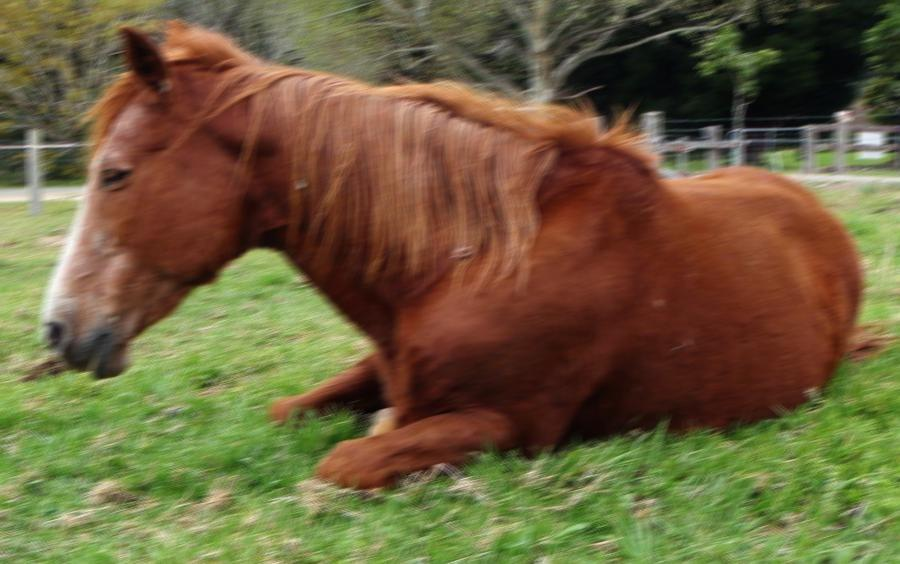horse: (0, 0, 900, 501)
